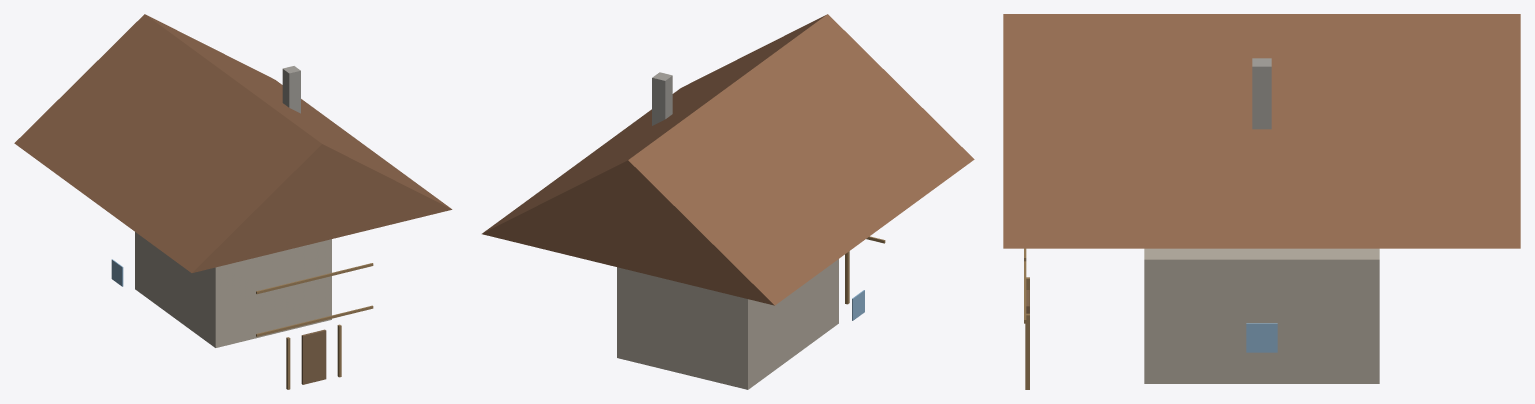
The model's file is medieval_blacksmith.glb.
3 renders of one model, left to right at view 1: azimuth 30°, elevation 25°; view 2: azimuth 150°, elevation 25°; view 3: azimuth 270°, elevation 25°, orthographic. The views are drawn at different scales.
Parts seen in each view (by area): view 1: medieval_blacksmith_roof, medieval_blacksmith_walls, medieval_blacksmith_door, medieval_blacksmith_chimney, medieval_blacksmith_beam, medieval_blacksmith_beam.001; view 2: medieval_blacksmith_roof, medieval_blacksmith_walls, medieval_blacksmith_chimney; view 3: medieval_blacksmith_roof, medieval_blacksmith_walls, medieval_blacksmith_chimney, medieval_blacksmith_window.001.
Boxes of the visible parts, <box> form: medieval_blacksmith_roof: <box>14,14,452,272</box>; medieval_blacksmith_walls: <box>135,232,331,347</box>; medieval_blacksmith_door: <box>301,329,326,384</box>; medieval_blacksmith_chimney: <box>282,66,300,113</box>; medieval_blacksmith_beam: <box>256,305,373,336</box>; medieval_blacksmith_beam.001: <box>256,263,373,294</box>; medieval_blacksmith_roof: <box>482,14,974,305</box>; medieval_blacksmith_walls: <box>617,259,838,389</box>; medieval_blacksmith_chimney: <box>652,72,672,125</box>; medieval_blacksmith_roof: <box>1003,14,1520,248</box>; medieval_blacksmith_walls: <box>1144,248,1379,383</box>; medieval_blacksmith_chimney: <box>1252,58,1271,129</box>; medieval_blacksmith_window.001: <box>1246,323,1277,352</box>.
Size of the model in its own units: 5.6 by 5.02 by 6.6.
